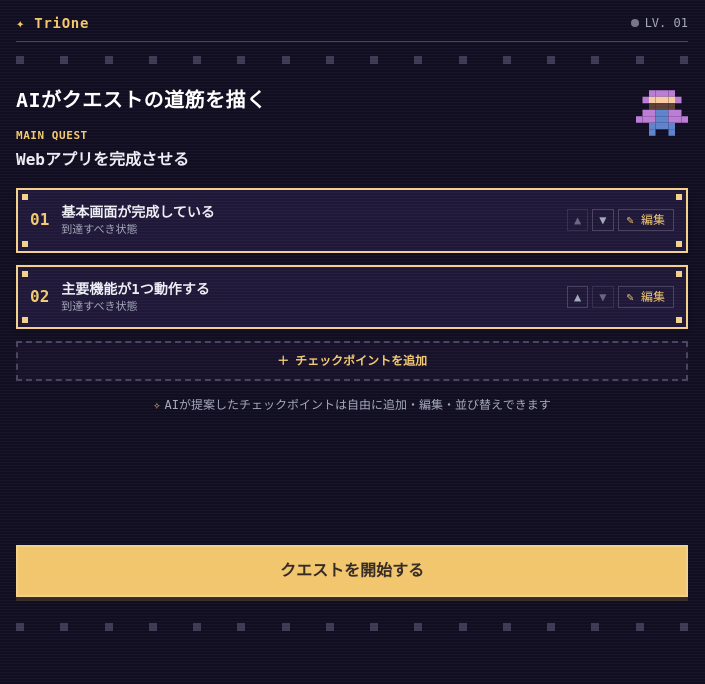
Scenario: CheckpointGenerationScreen › 編集保存に失敗した場合はエラーを表示し、入力内容を保持する
Click the button "✎ 編集" in the row of "基本画面が完成している" at coordinates (646, 220), box [618, 209, 674, 231]
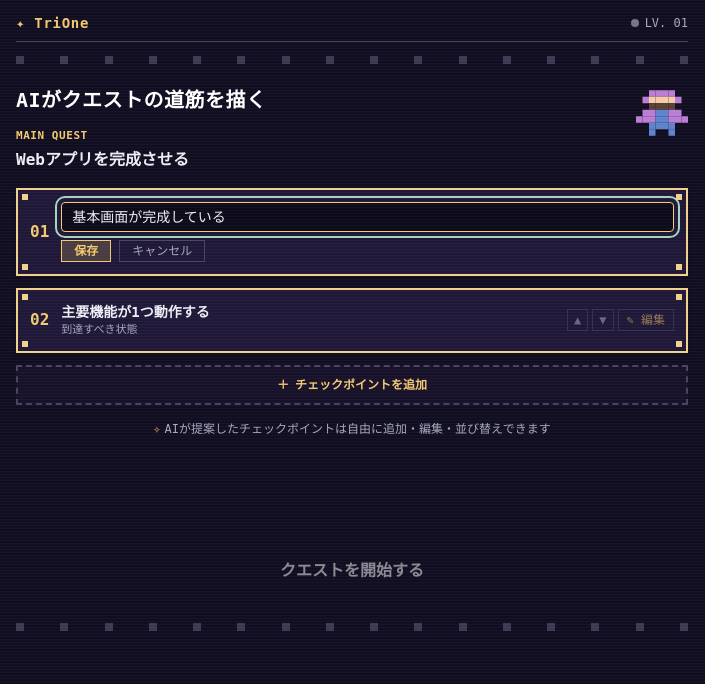
Replace the text in the field showing "基本画面が完成している" with "新しい名前" at coordinates (368, 217), box [61, 202, 674, 232]
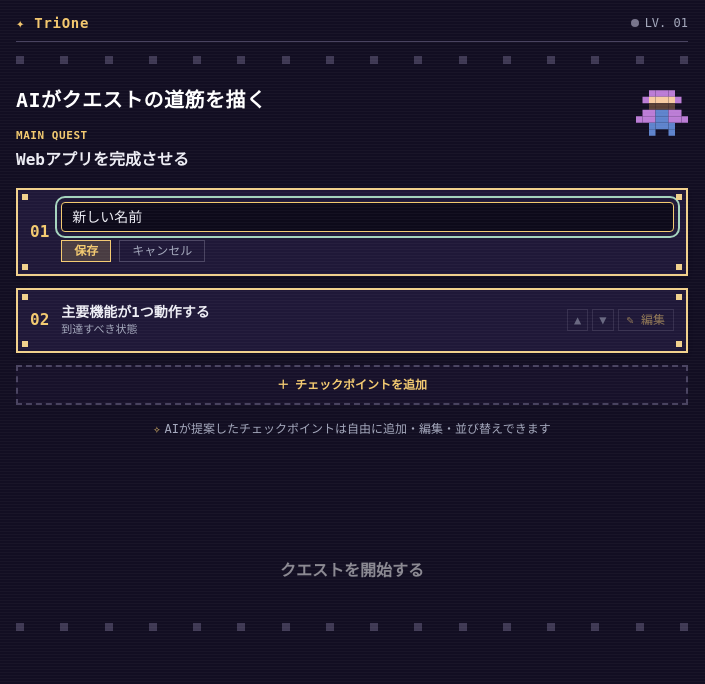
Click the button "保存" at coordinates (86, 251), box [61, 240, 111, 262]
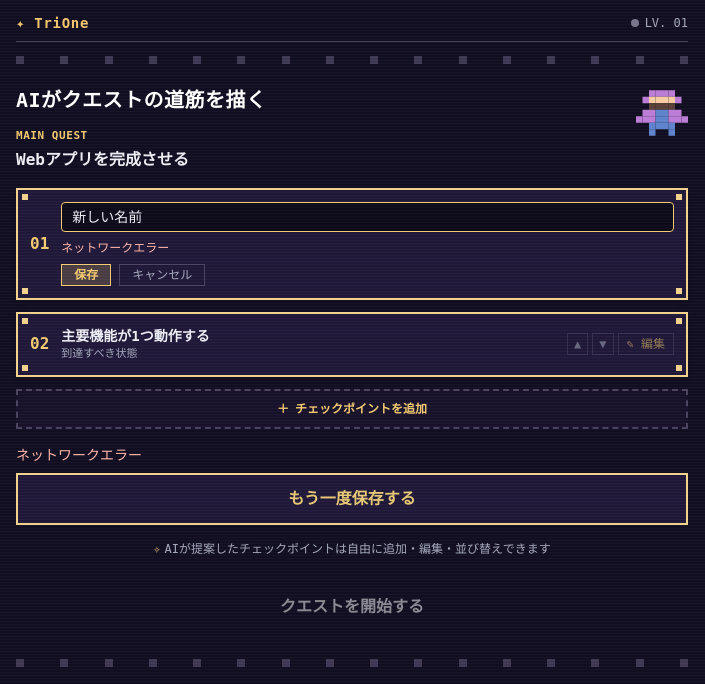
Result: the message reads "ネットワークエラー" at [16, 446, 142, 462]
